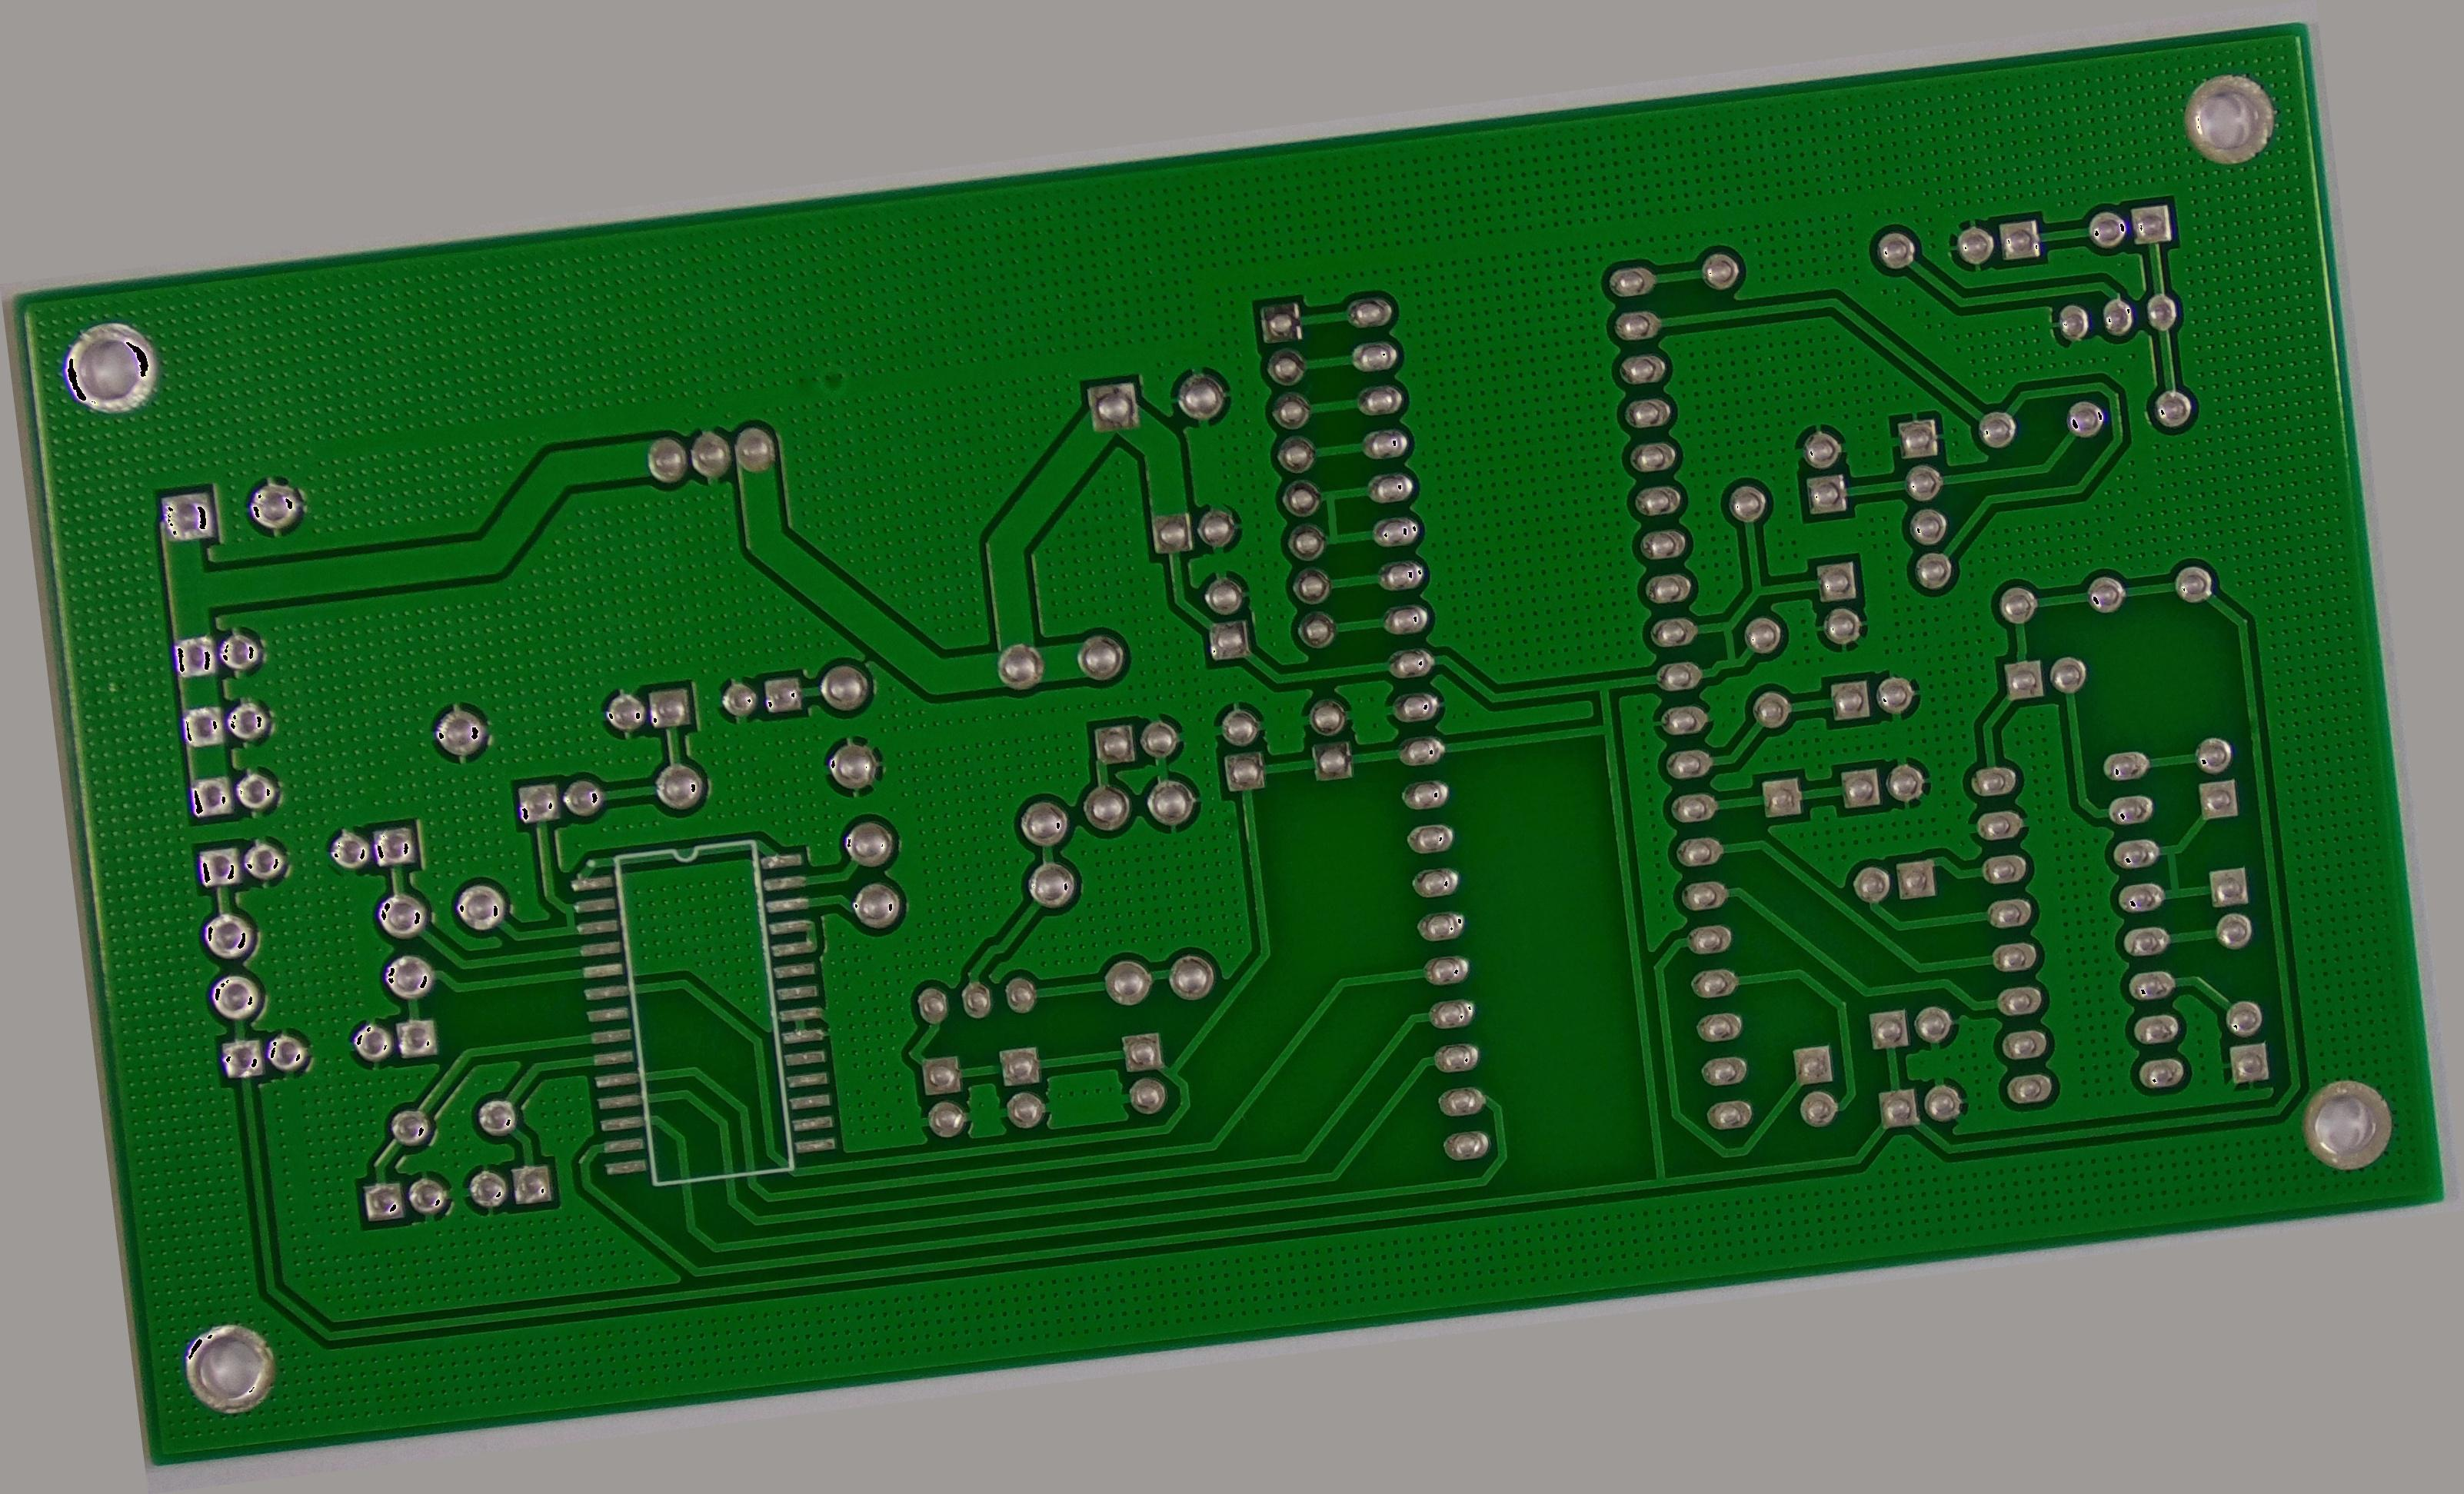short: (1288, 475, 1368, 561), (2140, 832, 2202, 912), (1700, 605, 1751, 674), (553, 896, 590, 938)
